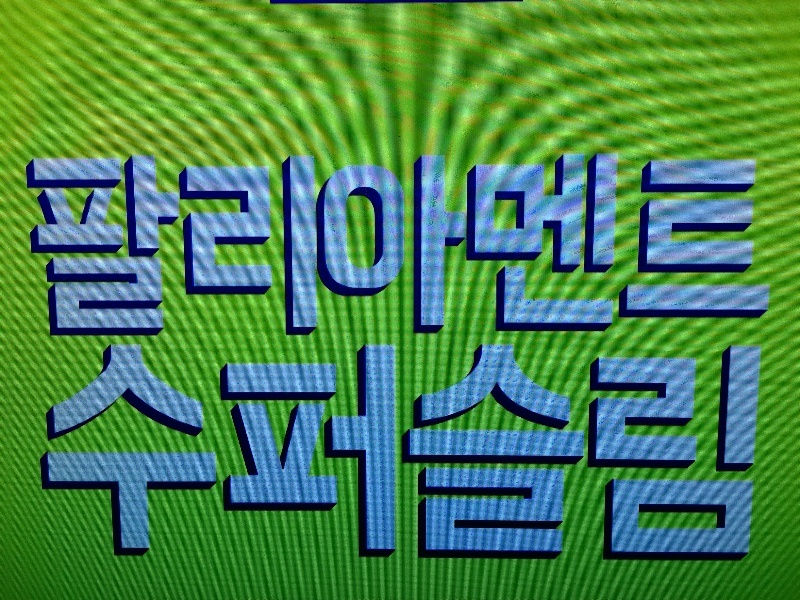text: (49, 342, 64, 560), (65, 342, 80, 560), (81, 342, 96, 560), (97, 342, 112, 560), (113, 342, 128, 560), (129, 342, 144, 560), (145, 342, 160, 560), (161, 342, 176, 560), (177, 342, 192, 560), (193, 342, 208, 560), (209, 342, 224, 560), (225, 342, 240, 560), (241, 342, 256, 560), (257, 342, 272, 560), (273, 342, 288, 560), (289, 342, 304, 560), (305, 342, 320, 560), (321, 342, 336, 560), (337, 342, 352, 560), (353, 342, 368, 560), (369, 342, 384, 560), (385, 342, 400, 560), (401, 342, 416, 560), (417, 342, 432, 560), (433, 342, 448, 560), (449, 342, 464, 560), (465, 342, 480, 560), (481, 342, 496, 560), (497, 342, 512, 560), (513, 342, 528, 560), (529, 342, 544, 560), (545, 342, 560, 560), (561, 342, 576, 560), (577, 342, 592, 560), (593, 342, 608, 560), (609, 342, 624, 560), (625, 342, 640, 560), (641, 342, 656, 560), (657, 342, 672, 560), (673, 342, 688, 560), (689, 342, 704, 560), (705, 342, 720, 560), (721, 342, 736, 560), (737, 342, 752, 560), (33, 153, 48, 333), (49, 153, 64, 333), (65, 153, 80, 333), (81, 153, 96, 333), (97, 153, 112, 333), (113, 153, 128, 333), (129, 153, 144, 333), (145, 153, 160, 333), (161, 153, 176, 333), (177, 153, 192, 333), (193, 153, 208, 333), (209, 153, 224, 333), (225, 153, 240, 333), (241, 153, 256, 333), (257, 153, 272, 333), (273, 153, 288, 333), (289, 153, 304, 333), (305, 153, 320, 333), (321, 153, 336, 333), (337, 153, 352, 333), (353, 153, 368, 333), (369, 153, 384, 333), (385, 153, 400, 333), (401, 153, 416, 333), (417, 153, 432, 333), (433, 153, 448, 333), (449, 153, 464, 333), (465, 153, 480, 333), (481, 153, 496, 333), (497, 153, 512, 333), (513, 153, 528, 333), (529, 153, 544, 333), (545, 153, 560, 333), (561, 153, 576, 333), (577, 153, 592, 333), (593, 153, 608, 333), (609, 153, 624, 333), (625, 153, 640, 333), (641, 153, 656, 333), (657, 153, 672, 333), (673, 153, 688, 333), (689, 153, 704, 333), (705, 153, 720, 333), (721, 153, 736, 333), (737, 153, 752, 333), (753, 153, 768, 333), (753, 342, 764, 560), (26, 153, 32, 333), (769, 153, 771, 333)
